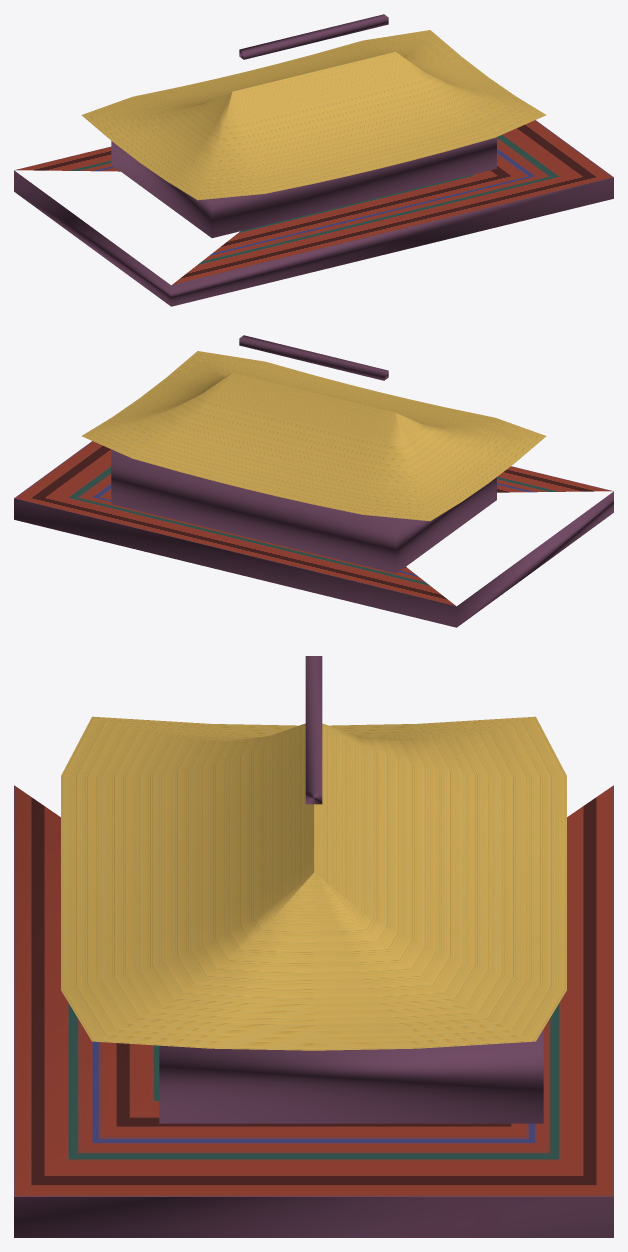
3 views of the same model, one above another, from view 1: azimuth 30°, elevation 25°; view 2: azimuth 150°, elevation 25°; view 3: azimuth 270°, elevation 25° (orthographic). The views are drawn at different scales.
Parts seen in each view (by area): view 1: roof_mass_lod2, woldae_lod2, hall_mass_lod2, ridge_lod2; view 2: roof_mass_lod2, woldae_lod2, hall_mass_lod2, ridge_lod2; view 3: roof_mass_lod2, woldae_lod2, hall_mass_lod2, ridge_lod2.
Boxes of the visible parts, x1,y1,x2,y2 form: roof_mass_lod2: [81, 30, 546, 200]; woldae_lod2: [14, 120, 613, 306]; hall_mass_lod2: [111, 137, 496, 237]; ridge_lod2: [239, 14, 388, 59]; roof_mass_lod2: [81, 351, 546, 521]; woldae_lod2: [14, 441, 613, 627]; hall_mass_lod2: [111, 450, 496, 573]; ridge_lod2: [239, 335, 388, 380]; roof_mass_lod2: [61, 716, 566, 1050]; woldae_lod2: [14, 785, 613, 1237]; hall_mass_lod2: [159, 1029, 543, 1123]; ridge_lod2: [305, 656, 322, 804].
Bounding box in the file's own units: 52 × 18.15 × 32.
Materials: 4 (4 with a texture image).
